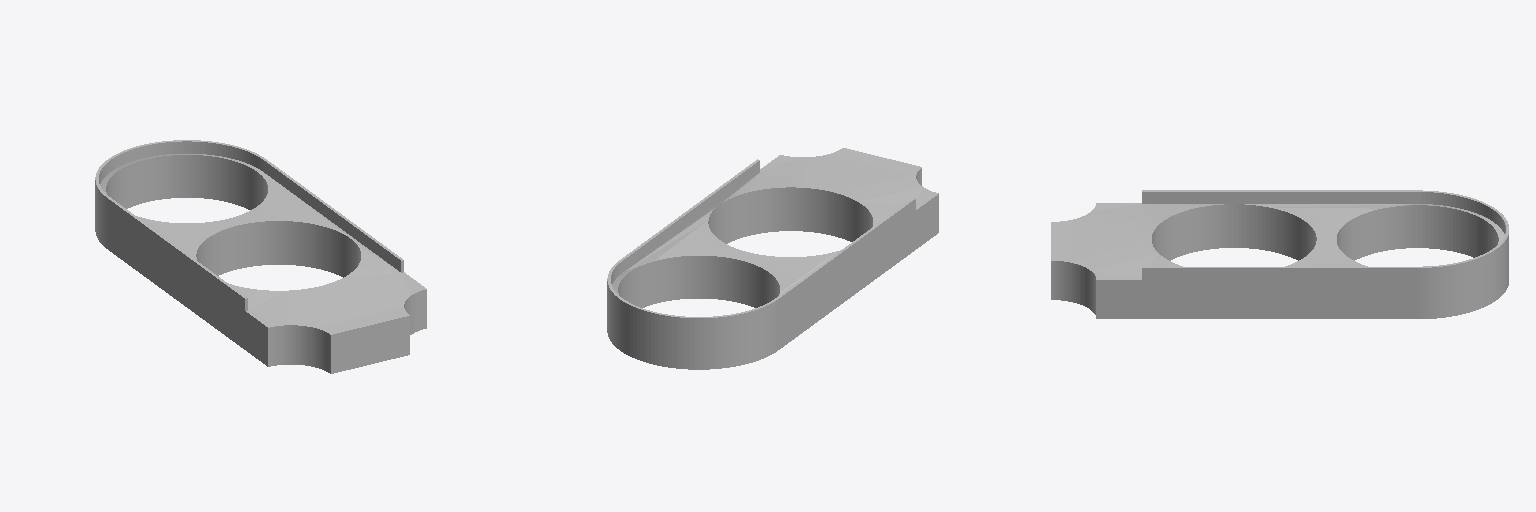
The model's file is Draintray_simple.obj.
3 views of the same model, side by side, from view 1: azimuth 30°, elevation 25°; view 2: azimuth 150°, elevation 25°; view 3: azimuth 270°, elevation 25° (orthographic).
Visible parts, largest first — view 1: DrainTray; view 2: DrainTray; view 3: DrainTray.
Part boxes in pixels (x1,y1,x2,y2): DrainTray: (95, 140, 426, 373); DrainTray: (607, 148, 938, 369); DrainTray: (1051, 190, 1508, 318).
Bounding box in the file's own units: 0.055 × 0.0177 × 0.1375.